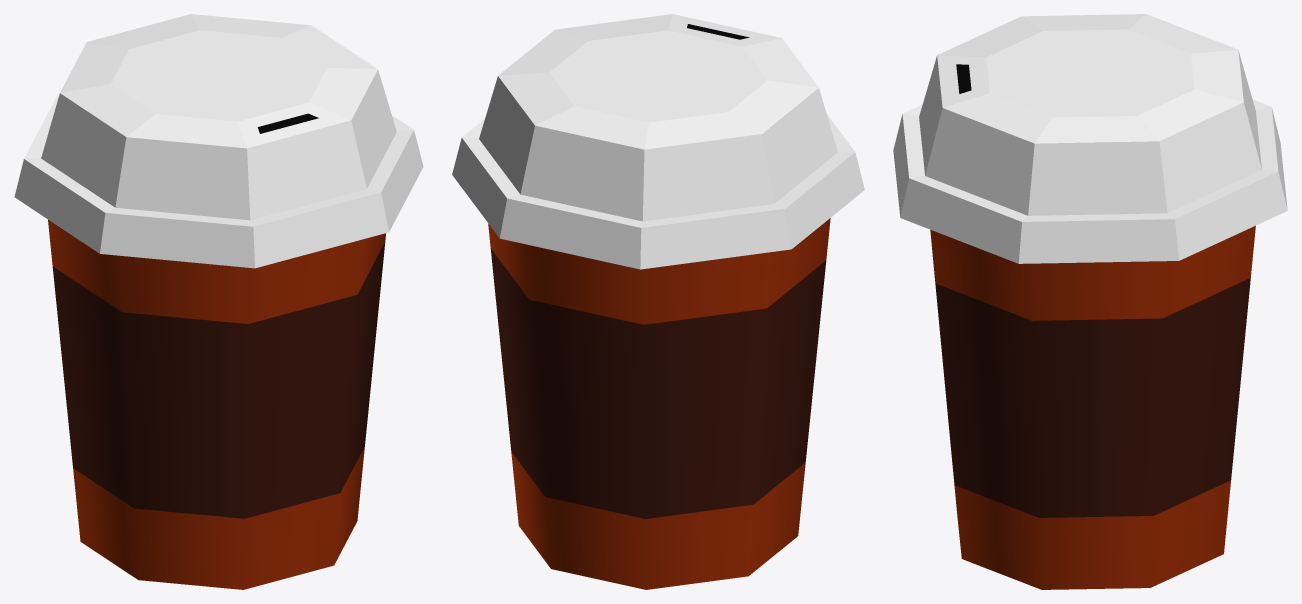
File: cup 1.fbx
The picture shows the model from 3 angles, left to right: view 1: azimuth 30°, elevation 25°; view 2: azimuth 150°, elevation 25°; view 3: azimuth 270°, elevation 25°; orthographic projection.
Visible parts, largest first — view 1: Cup; view 2: Cup; view 3: Cup.
Boxes of the visible parts, x1=… form: Cup: x1=14, y1=14, x2=423, y2=589; Cup: x1=452, y1=14, x2=864, y2=589; Cup: x1=893, y1=14, x2=1287, y2=589.
Bounding box in the file's own units: 4.3 × 5.54 × 4.3.
